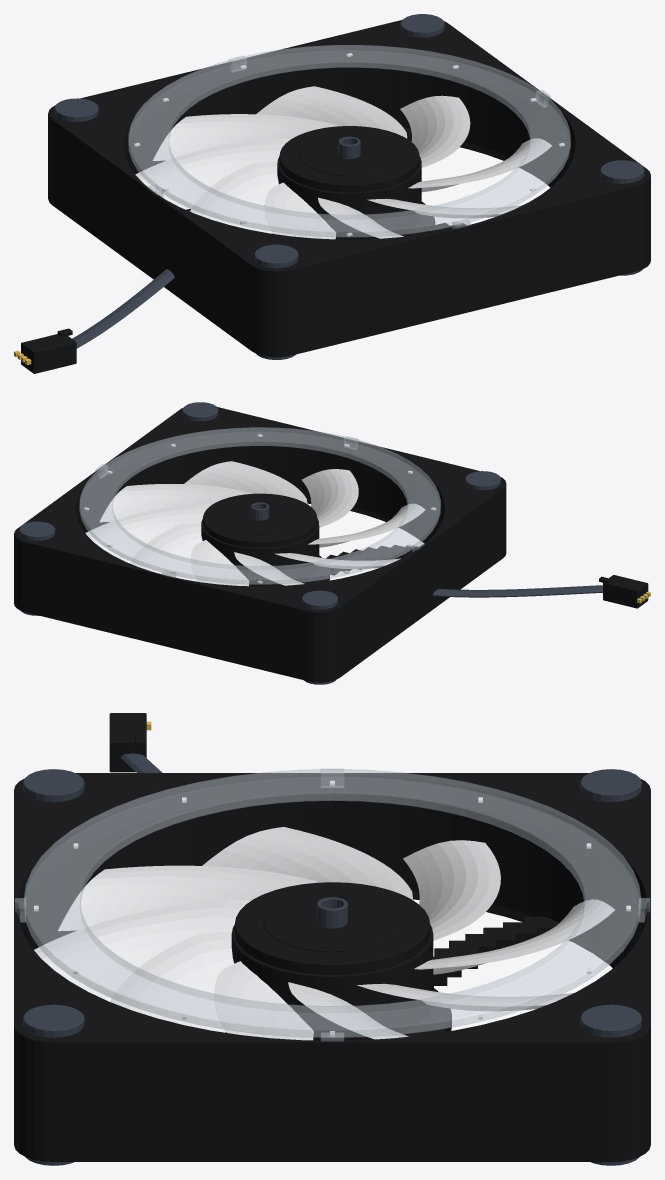
Rendered from case-fan.lod1.glb.
3 views of the same model, one above another, from view 1: azimuth 30°, elevation 25°; view 2: azimuth 150°, elevation 25°; view 3: azimuth 270°, elevation 25° (orthographic). The views are drawn at different scales.
Parts seen in each view (by area): view 1: P01_frame, P07_argb_ring, P02_blades, P03_hub, P08_antivib_pads, P06_pwm_connector, P06_pwm_jacket, P01_frame_struts; view 2: P01_frame, P07_argb_ring, P02_blades, P03_hub, P08_antivib_pads, P06_pwm_jacket, P01_frame_struts, P06_pwm_connector; view 3: P01_frame, P07_argb_ring, P02_blades, P03_hub, P08_antivib_pads, P01_frame_struts, P06_pwm_connector.
Part boxes in pixels (<box>): P01_frame: <box>48,20,650,357</box>; P07_argb_ring: <box>128,45,570,237</box>; P02_blades: <box>135,86,551,239</box>; P03_hub: <box>277,126,421,239</box>; P08_antivib_pads: <box>54,14,644,359</box>; P06_pwm_connector: <box>21,328,76,373</box>; P06_pwm_jacket: <box>72,269,174,348</box>; P01_frame_struts: <box>186,128,466,236</box>; P01_frame: <box>14,407,506,682</box>; P07_argb_ring: <box>79,427,440,584</box>; P02_blades: <box>85,461,425,586</box>; P03_hub: <box>201,493,319,586</box>; P08_antivib_pads: <box>19,402,500,684</box>; P06_pwm_jacket: <box>433,585,602,597</box>; P01_frame_struts: <box>307,544,423,583</box>; P06_pwm_connector: <box>599,575,648,608</box>; P01_frame: <box>14,773,650,1161</box>; P07_argb_ring: <box>14,768,650,1041</box>; P02_blades: <box>34,827,614,1040</box>; P03_hub: <box>231,882,433,1040</box>; P08_antivib_pads: <box>23,769,641,1165</box>; P01_frame_struts: <box>226,917,558,1036</box>; P06_pwm_connector: <box>109,713,146,772</box>.
Bounding box in the file's own units: 182 × 28.3 × 120.
